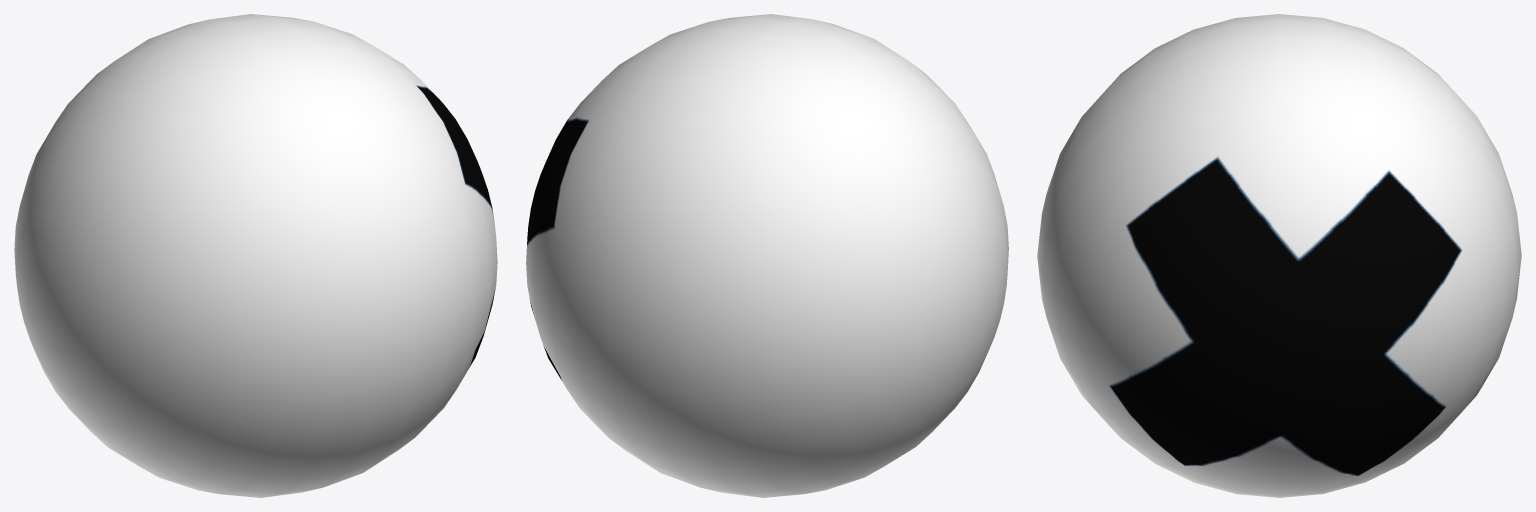
Rendered from eyx.fbx.
The picture shows the model from 3 angles, left to right: view 1: azimuth 30°, elevation 25°; view 2: azimuth 150°, elevation 25°; view 3: azimuth 270°, elevation 25°; orthographic projection.
Visible parts, largest first — view 1: 球.008; view 2: 球.008; view 3: 球.008.
Part boxes in pixels (x1,y1,x2,y2): 球.008: (14, 14, 497, 497); 球.008: (526, 14, 1008, 497); 球.008: (1037, 14, 1521, 497).
Bounding box in the file's own units: 75.45 × 75.45 × 75.45.
